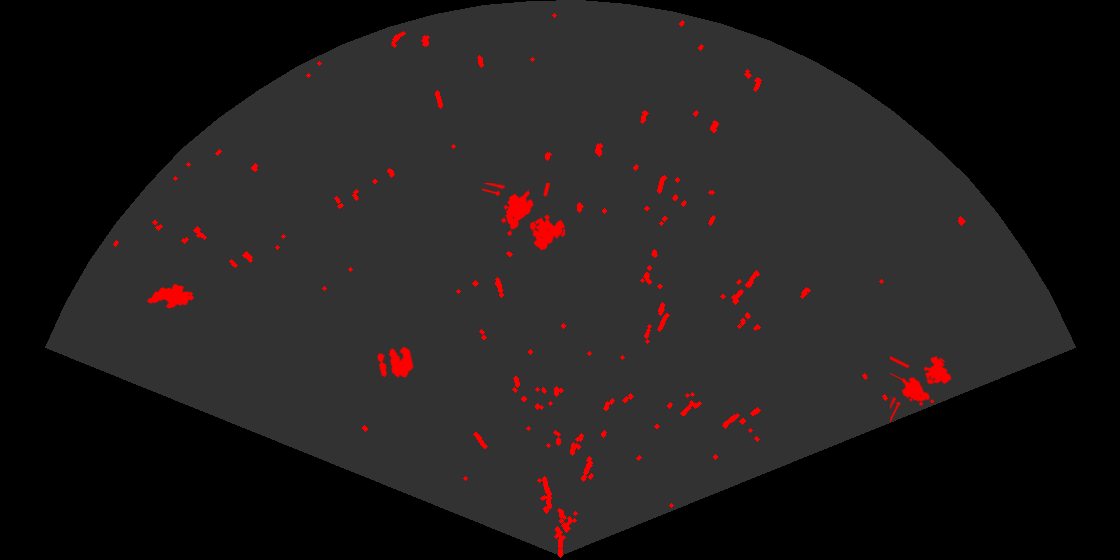AUV: (146, 282, 196, 310)
ball: (375, 345, 415, 380)
cage: (482, 183, 567, 252), (890, 354, 953, 423)
